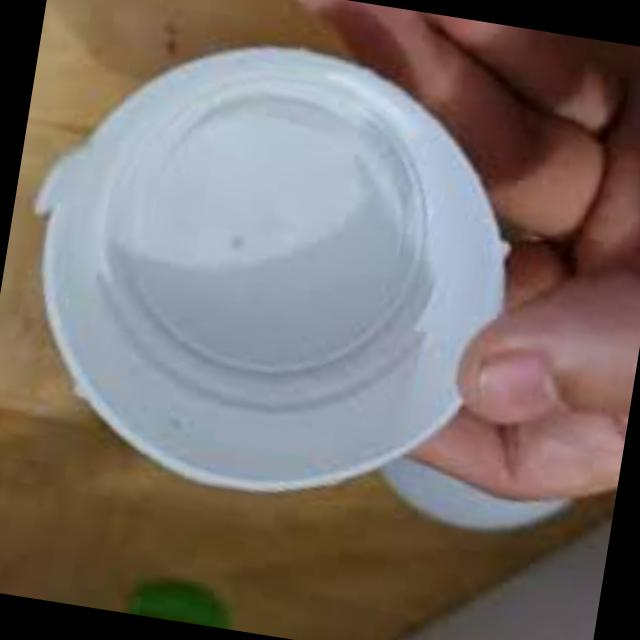TutupGalon: (0, 9, 542, 532)
